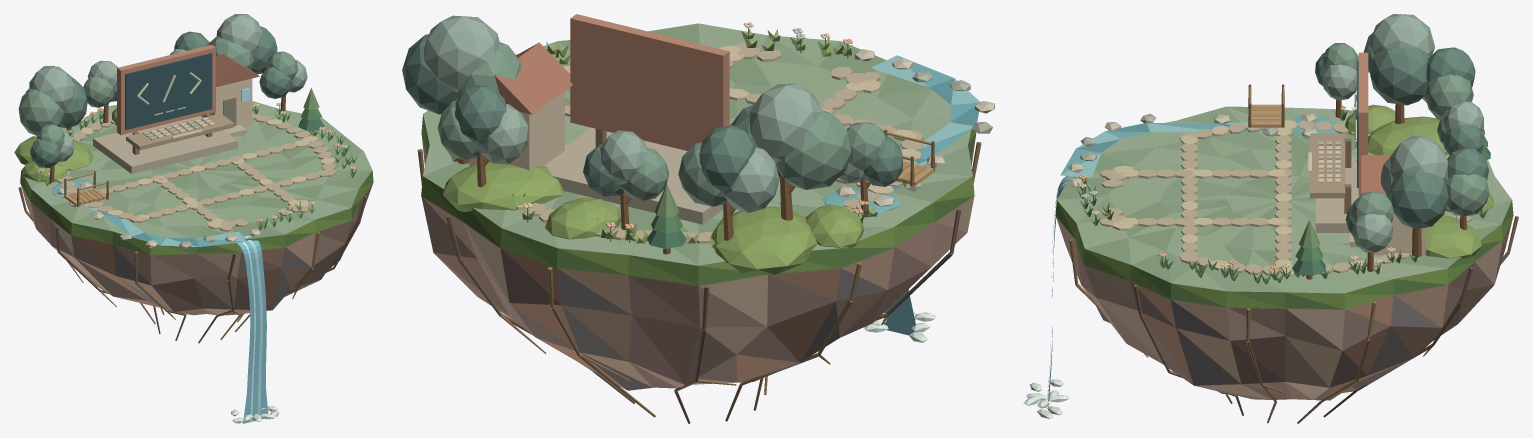
File: island_software_v2.glb
3 views of the same model, side by side, from view 1: azimuth 30°, elevation 25°; view 2: azimuth 150°, elevation 25°; view 3: azimuth 270°, elevation 25° (orthographic). The views are drawn at different scales.
Parts seen in each view (by area): view 1: SW15_software_meadow, SW15_software_stone, SW15_software_cliff, SW15_software_leaves, SW15_software_timber, SW15_software_water, SW15_software_roots, SW15_software_foam, SW15_software_flowers; view 2: SW15_software_meadow, SW15_software_cliff, SW15_software_leaves, SW15_software_timber, SW15_software_stone, SW15_software_roots, SW15_software_water, SW15_software_foam; view 3: SW15_software_meadow, SW15_software_cliff, SW15_software_leaves, SW15_software_stone, SW15_software_timber, SW15_software_water, SW15_software_roots, SW15_software_foam, SW15_software_flowers.
Part boxes in pixels (bbox=[...]): SW15_software_meadow: bbox=[14, 101, 373, 255]; SW15_software_stone: bbox=[56, 53, 336, 248]; SW15_software_cliff: bbox=[21, 184, 372, 315]; SW15_software_leaves: bbox=[18, 14, 357, 230]; SW15_software_timber: bbox=[49, 43, 310, 206]; SW15_software_water: bbox=[52, 179, 268, 423]; SW15_software_roots: bbox=[18, 187, 367, 343]; SW15_software_foam: bbox=[231, 242, 279, 423]; SW15_software_flowers: bbox=[38, 72, 355, 221]; SW15_software_meadow: bbox=[421, 23, 976, 286]; SW15_software_cliff: bbox=[421, 135, 975, 390]; SW15_software_leaves: bbox=[402, 15, 902, 248]; SW15_software_timber: bbox=[457, 14, 934, 254]; SW15_software_stone: bbox=[469, 42, 994, 243]; SW15_software_roots: bbox=[417, 142, 981, 423]; SW15_software_water: bbox=[821, 55, 980, 335]; SW15_software_foam: bbox=[864, 312, 935, 342]; SW15_software_meadow: bbox=[1055, 104, 1513, 309]; SW15_software_cliff: bbox=[1056, 216, 1513, 400]; SW15_software_leaves: bbox=[1077, 14, 1490, 284]; SW15_software_stone: bbox=[1067, 61, 1474, 276]; SW15_software_timber: bbox=[1248, 52, 1466, 279]; SW15_software_water: bbox=[1046, 114, 1337, 410]; SW15_software_roots: bbox=[1069, 216, 1518, 423]; SW15_software_foam: bbox=[1023, 176, 1070, 418]; SW15_software_flowers: bbox=[1078, 92, 1486, 269].
Size of the model in its own units: 9.24 by 7.9 by 10.15.
